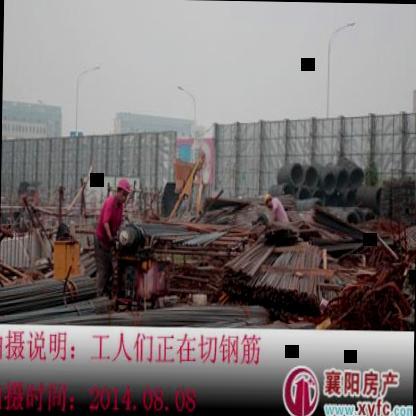helmet: (116, 174, 133, 205), (260, 189, 274, 209)
